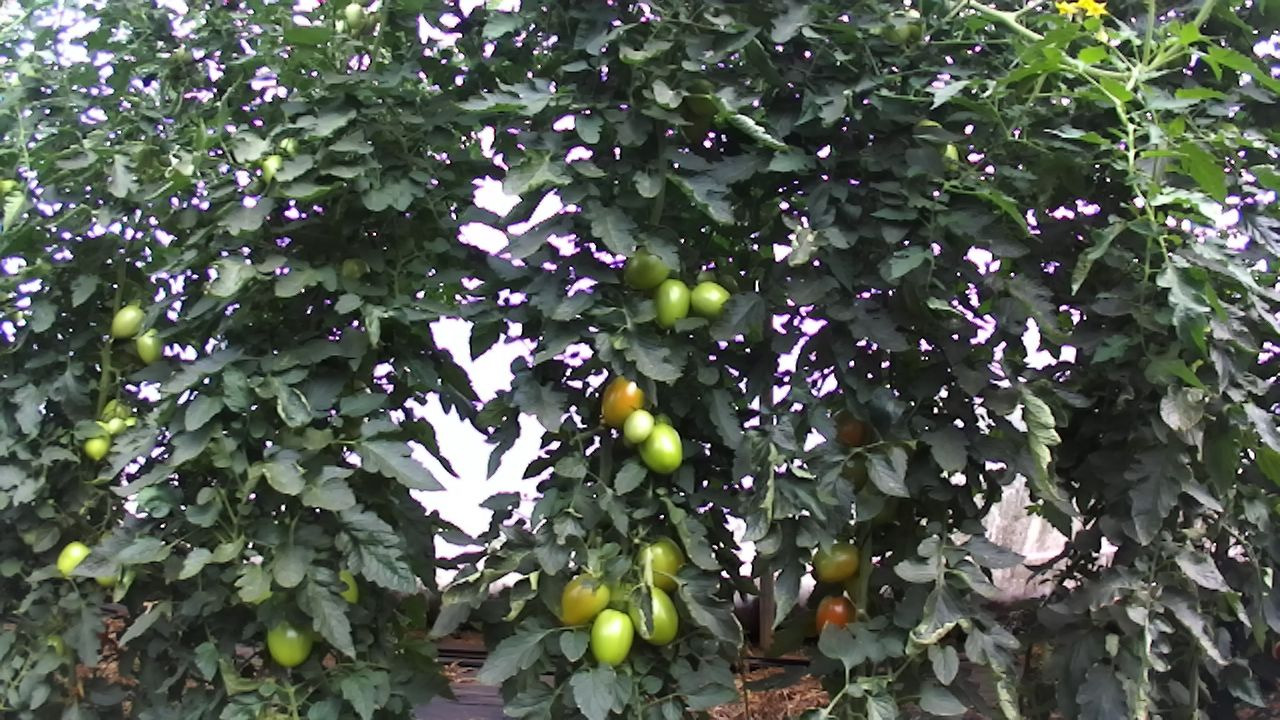tomato: (622, 581, 681, 650), (261, 609, 319, 672), (633, 528, 688, 593), (619, 239, 677, 295), (588, 606, 636, 672), (559, 572, 612, 628), (635, 420, 685, 477), (598, 374, 648, 430), (810, 539, 862, 584), (810, 591, 857, 640), (652, 276, 692, 330), (107, 302, 149, 341), (689, 280, 731, 319), (132, 325, 168, 369), (620, 406, 656, 444), (103, 413, 129, 437)
